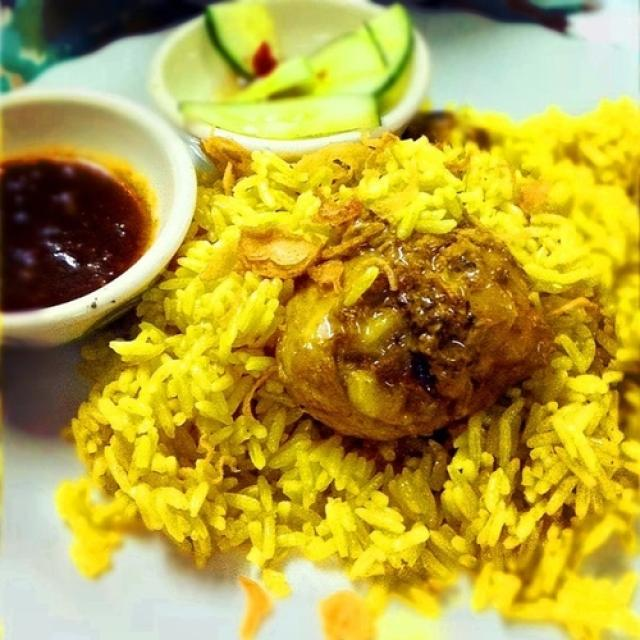米饭主食: (1, 5, 634, 634)
